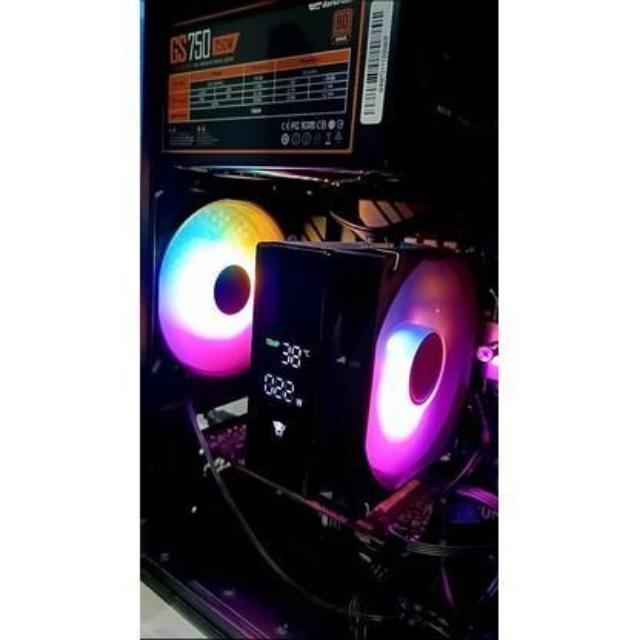CPU_Fan: (245, 228, 500, 520)
